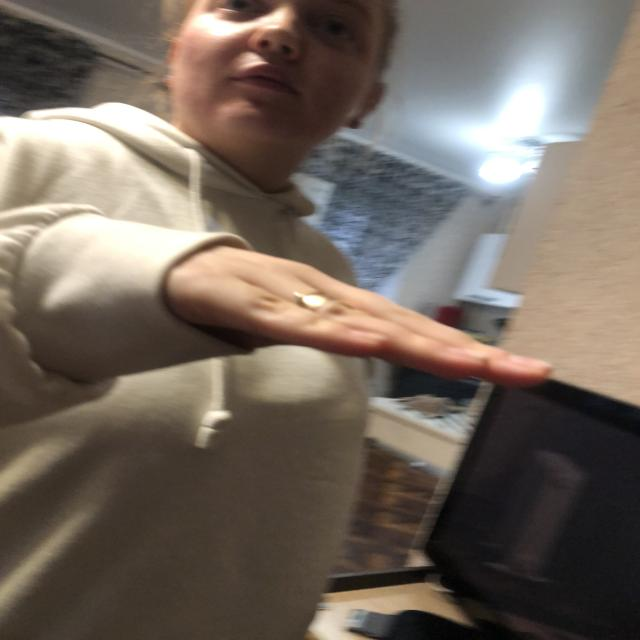paper: (180, 247, 545, 389)
